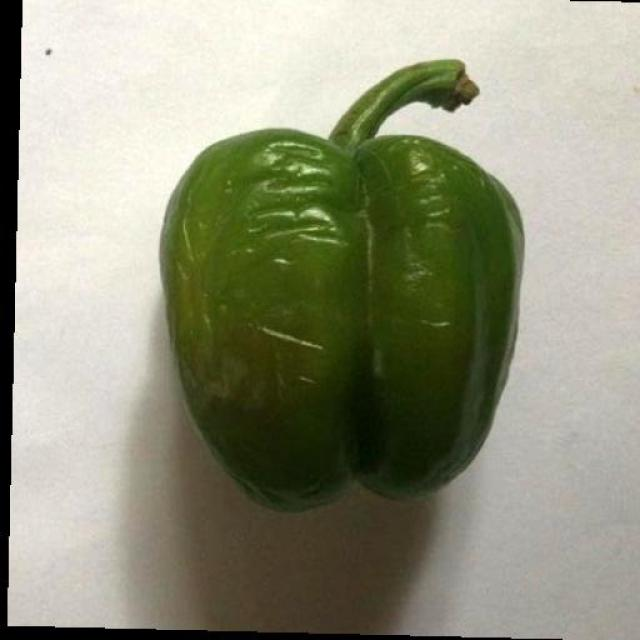Stale_Capsicum: (183, 55, 514, 528)
